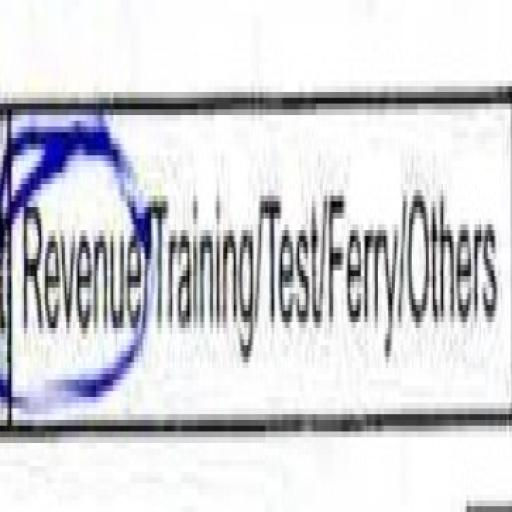check: (0, 18, 147, 482)
